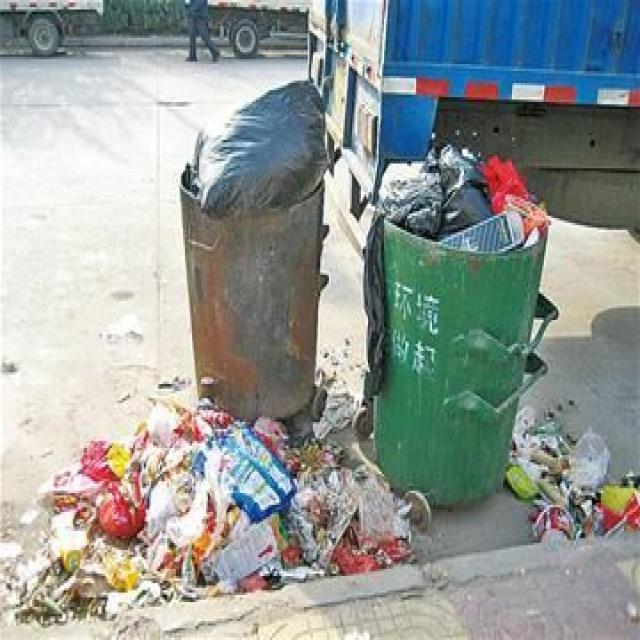garbage: (11, 396, 414, 628), (505, 400, 638, 540)
overflow: (361, 145, 555, 507), (178, 78, 327, 420)
